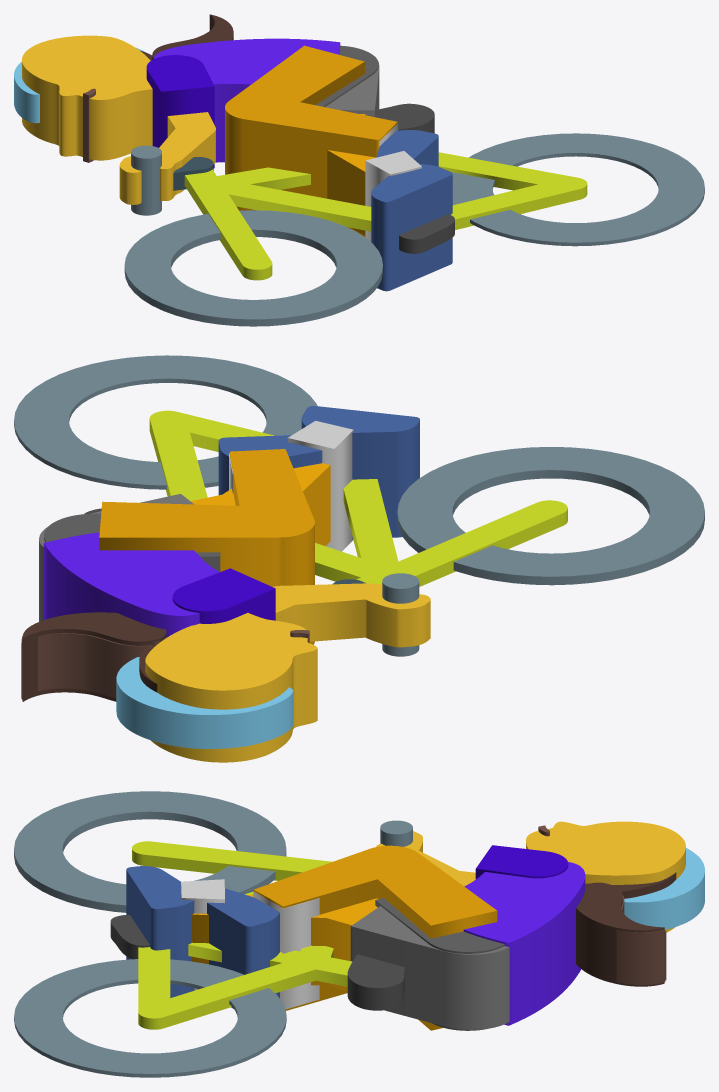
Rendered from emoji_u1f6b4_200d_2640.glb.
The picture shows the model from 3 angles, top to bottom: view 1: azimuth 30°, elevation 25°; view 2: azimuth 150°, elevation 25°; view 3: azimuth 270°, elevation 25°; orthographic projection. The views are drawn at different scales.
Visible parts, largest first — view 1: emoji_u1f6b4_200d_2640; view 2: emoji_u1f6b4_200d_2640; view 3: emoji_u1f6b4_200d_2640.
Part boxes in pixels (left/top/right/bottom): emoji_u1f6b4_200d_2640: left=14, top=14, right=704, bottom=326; emoji_u1f6b4_200d_2640: left=14, top=355, right=704, bottom=762; emoji_u1f6b4_200d_2640: left=14, top=791, right=704, bottom=1077.
Bounding box in the file's own units: 0.0321 × 0.0056 × 0.0334.
